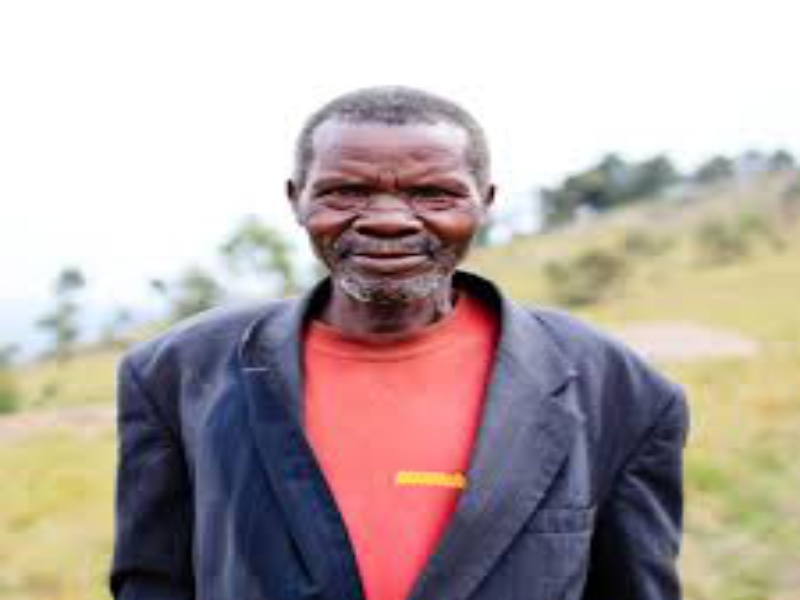TsisyArotava: (282, 92, 501, 319)
